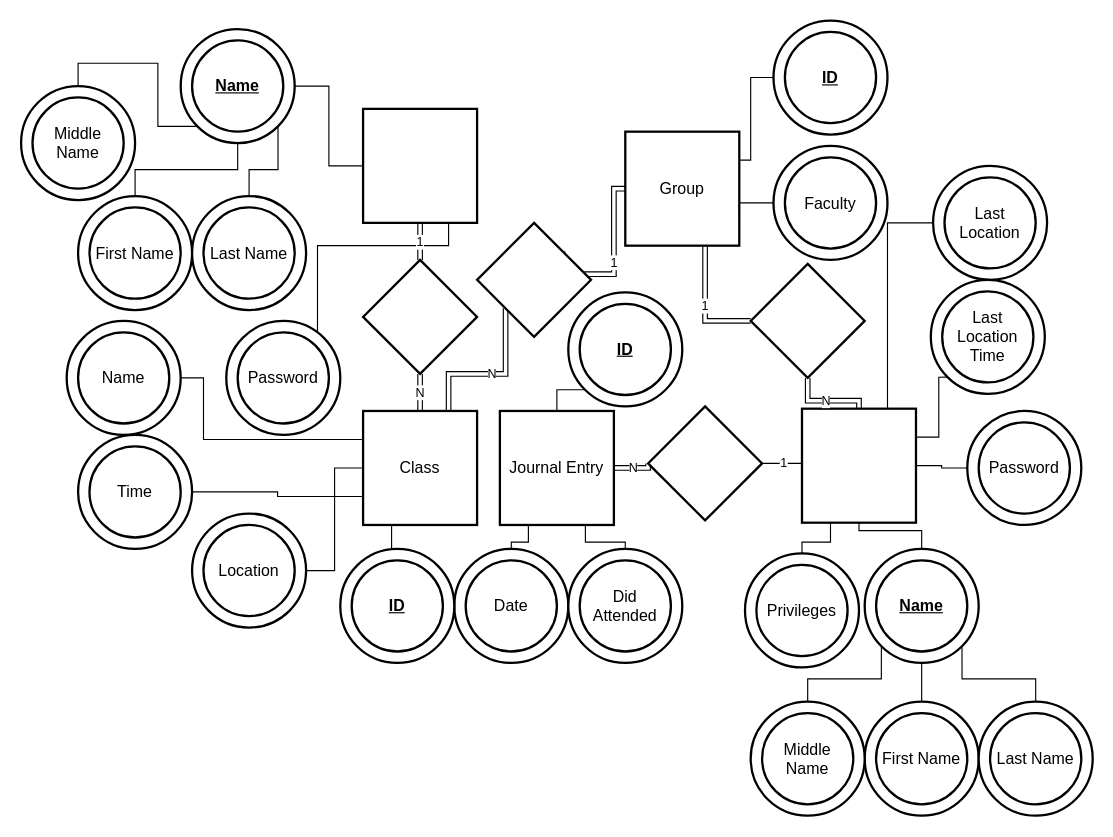
Image size: 1113x837. Some labels were removed from this diagram. Each missing label, with the box of its shape:
About: (646, 405, 763, 521)
Belongs to: (749, 262, 865, 378)
Lectures: (361, 258, 478, 374)
Student: (800, 407, 917, 523)
Teacher: (361, 107, 478, 223)
Whoose: (475, 221, 592, 337)
